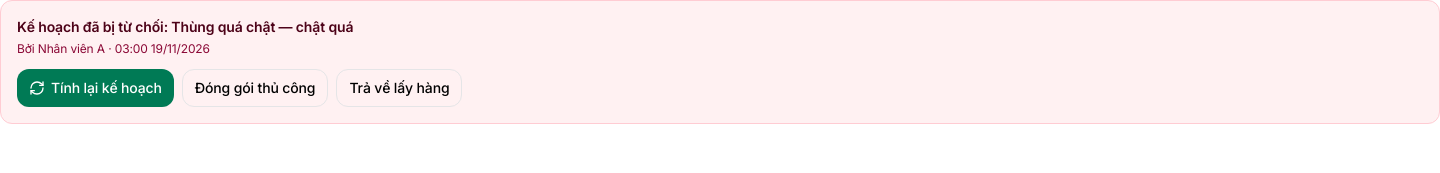
Test case: RejectedPlanPanel (AOFP-322) › tính lại lỗi (failed) thì báo lý do, không rời tab
Step 1. Click the button "Tính lại kế hoạch" → (95, 88), box 17,69 -> 174,107
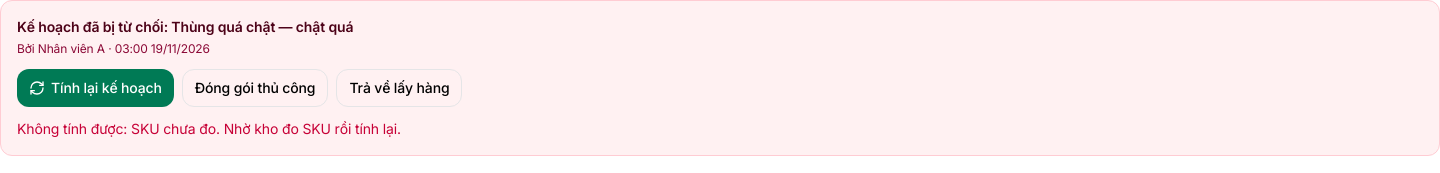
Now the text "Không tính được: SKU chưa đo. Nhờ kho đo SKU rồi tính lại." is shown, box 17,120 -> 401,137
